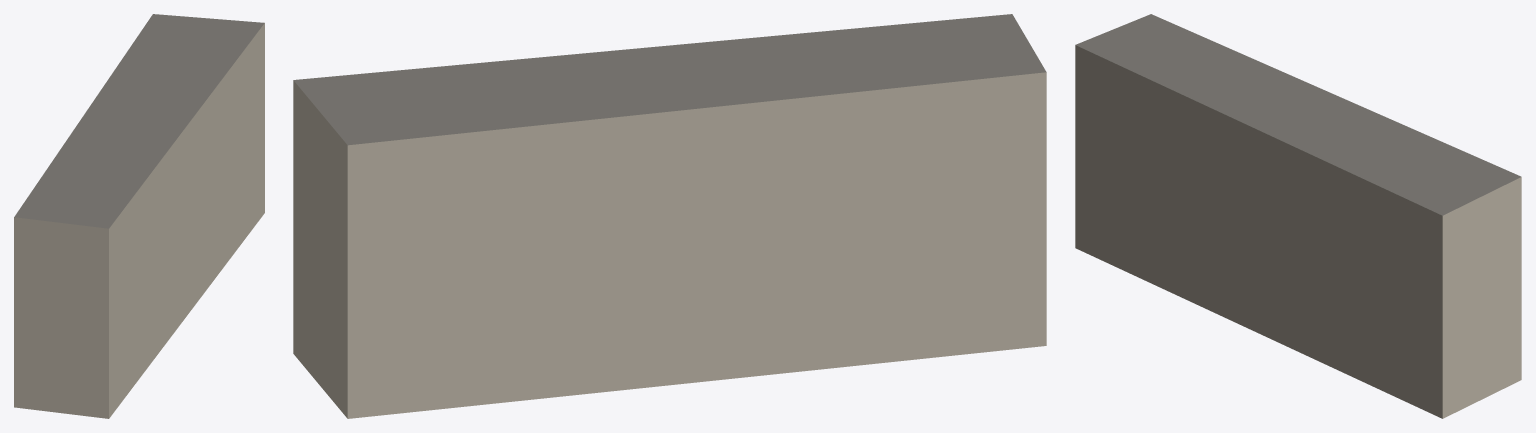
3 renders of one model, left to right at view 1: azimuth 30°, elevation 25°; view 2: azimuth 150°, elevation 25°; view 3: azimuth 270°, elevation 25°, orthographic. The views are drawn at different scales.
Visible parts, largest first — view 1: HP-w729793772; view 2: HP-w729793772; view 3: HP-w729793772.
Part boxes in pixels (x1,y1,x2,y2): HP-w729793772: (14, 14, 264, 418); HP-w729793772: (293, 14, 1046, 418); HP-w729793772: (1075, 14, 1521, 418).
Bounding box in the file's own units: 38.34 × 18 × 35.86.
